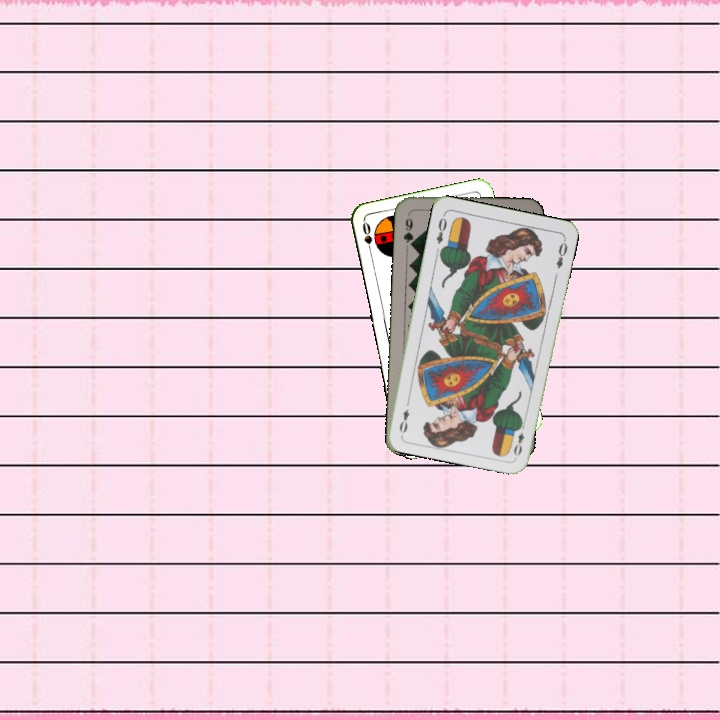EO: (510, 419, 527, 458), (432, 214, 449, 246)
G9: (399, 209, 416, 250)
SO: (358, 218, 375, 258)
